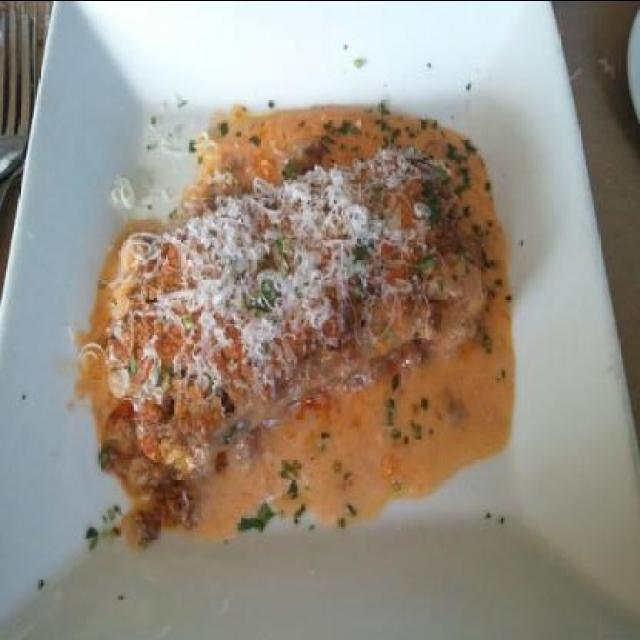Lasagna: (110, 84, 492, 480)
